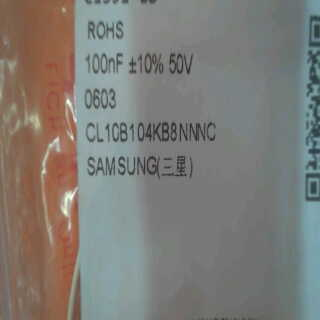100nF: (78, 49, 122, 82)
